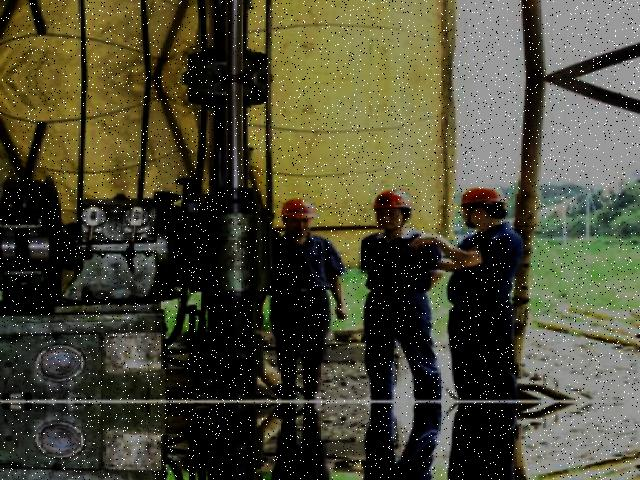Helmet: (452, 181, 512, 212), (368, 185, 420, 219), (274, 193, 318, 224)
